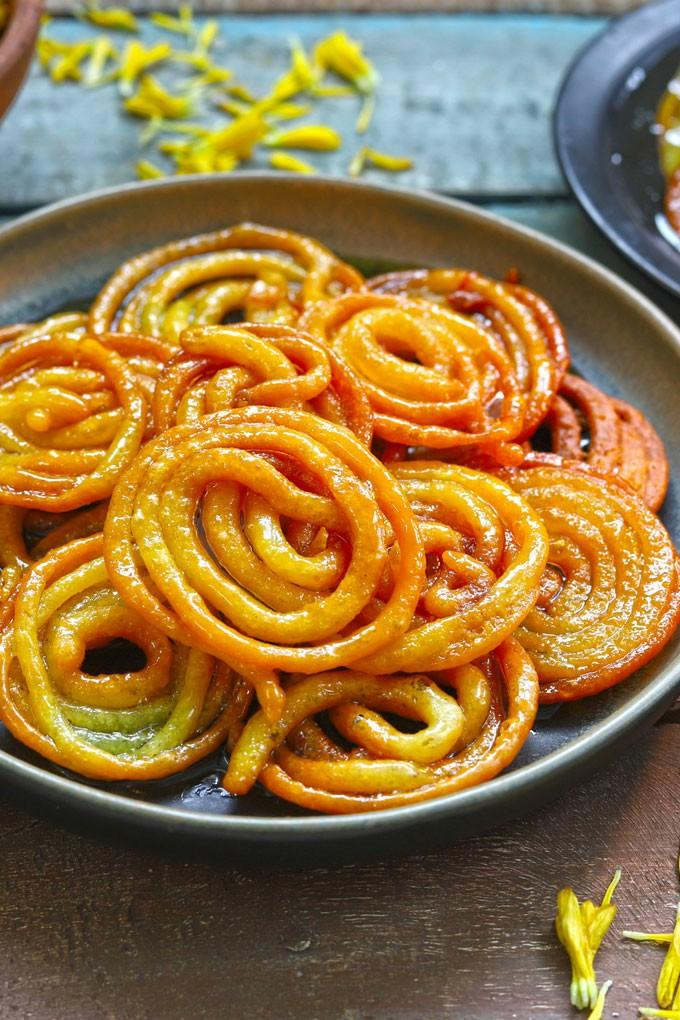Jalebi: (0, 216, 680, 810)
